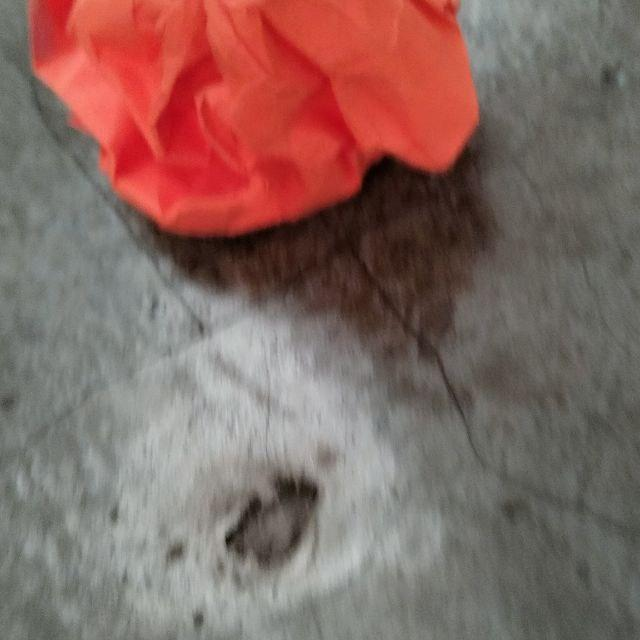paper: (0, 0, 530, 323)
